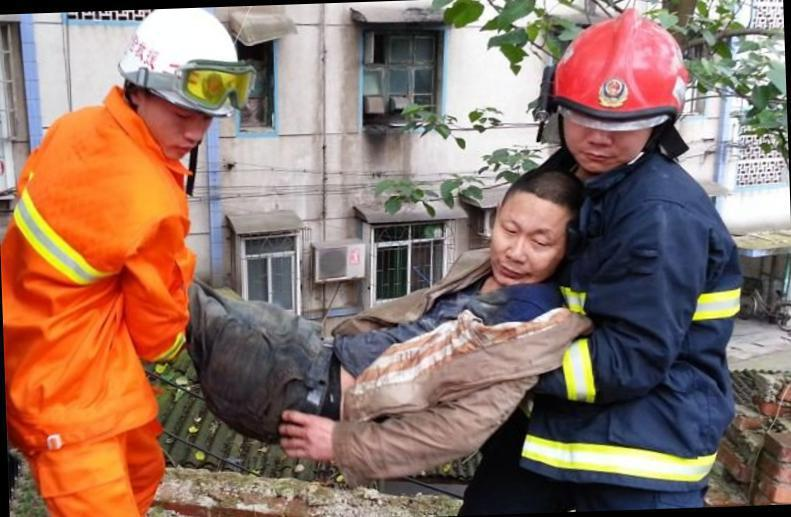Drunk: (492, 196, 558, 284)
